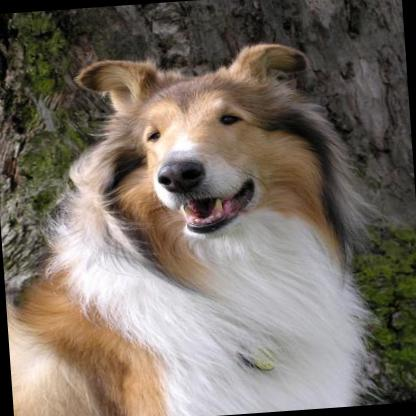collie: (0, 39, 375, 416)
